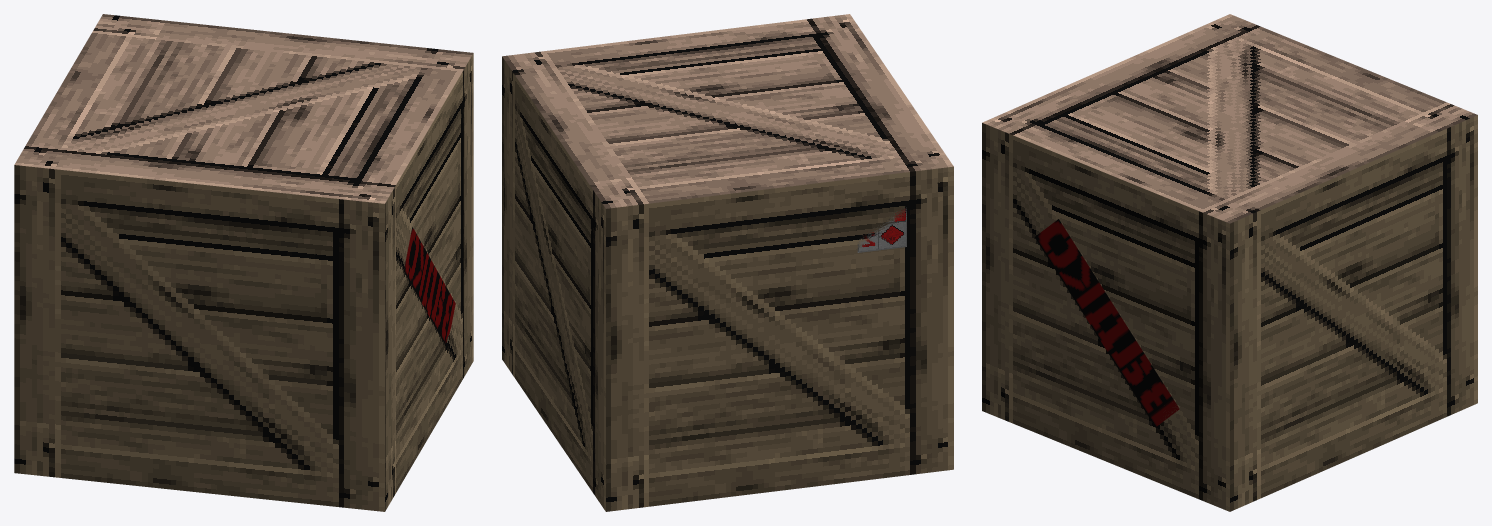
The model's file is primary_072.glb.
The picture shows the model from 3 angles, left to right: view 1: azimuth 30°, elevation 25°; view 2: azimuth 150°, elevation 25°; view 3: azimuth 270°, elevation 25°; orthographic projection. The views are drawn at different scales.
Visible parts, largest first — view 1: Object; view 2: Object; view 3: Object.
Part boxes in pixels (x1,y1,x2,y2): Object: [14, 14, 473, 511]; Object: [502, 14, 953, 511]; Object: [982, 14, 1477, 511].
Size of the model in its own units: 2 by 1.28 by 2.
Materials: 7 (7 with a texture image).
